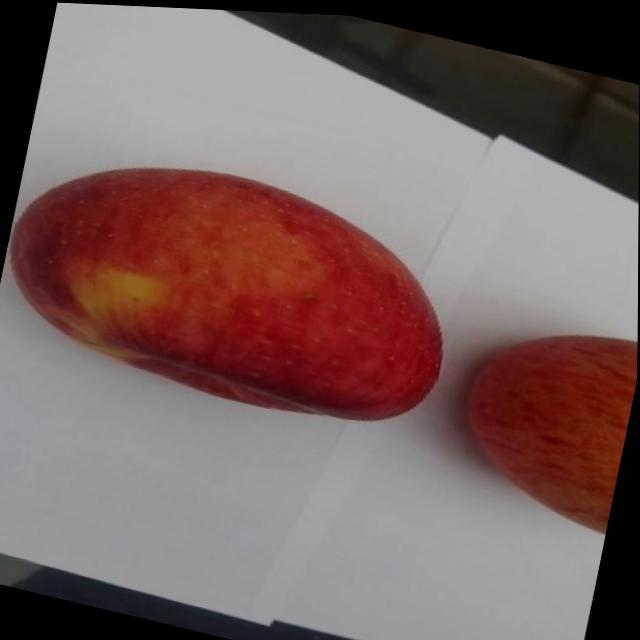Apple: (0, 126, 468, 445), (446, 300, 638, 531)
